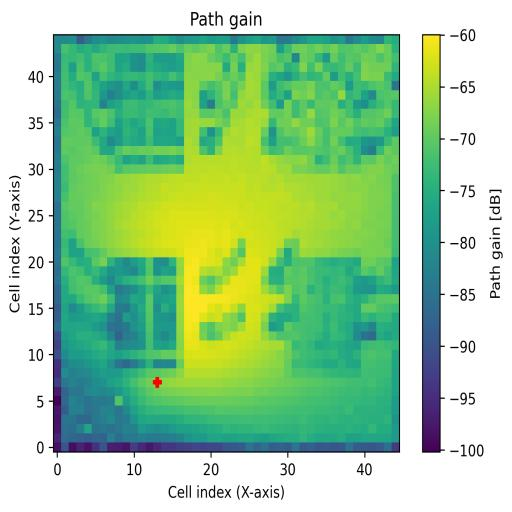Concrete: (292, 52, 362, 173)
Glass: (115, 52, 185, 174)
Metal: (292, 258, 360, 377)
Wood: (106, 257, 184, 368)
